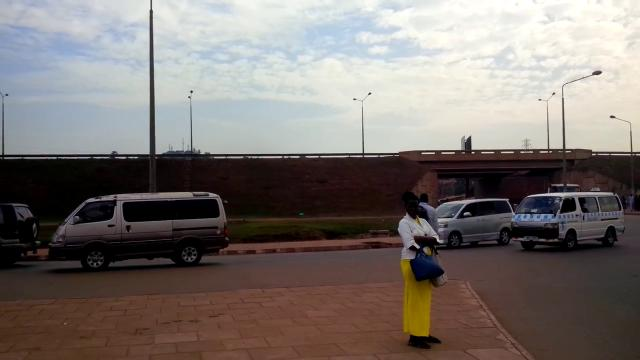van: (48, 191, 229, 271), (510, 186, 626, 251), (434, 198, 515, 249)
